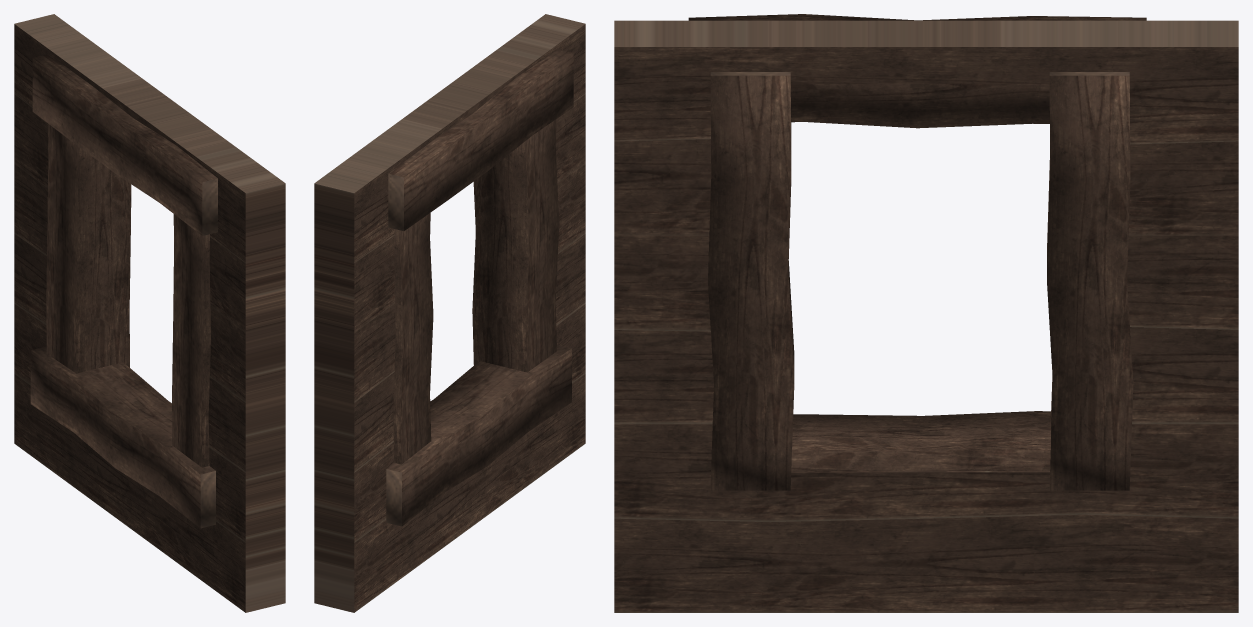
File: Wall_Window.fbx
3 renders of one model, left to right at view 1: azimuth 30°, elevation 25°; view 2: azimuth 150°, elevation 25°; view 3: azimuth 270°, elevation 25°, orthographic. The views are drawn at different scales.
Parts seen in each view (by area): view 1: Cube.006; view 2: Cube.006; view 3: Cube.006.
Part boxes in pixels (<box>): Cube.006: <box>14,14,285,612</box>; Cube.006: <box>314,14,585,612</box>; Cube.006: <box>614,14,1238,612</box>.
Size of the model in its own units: 0.8111 by 5 by 5.
